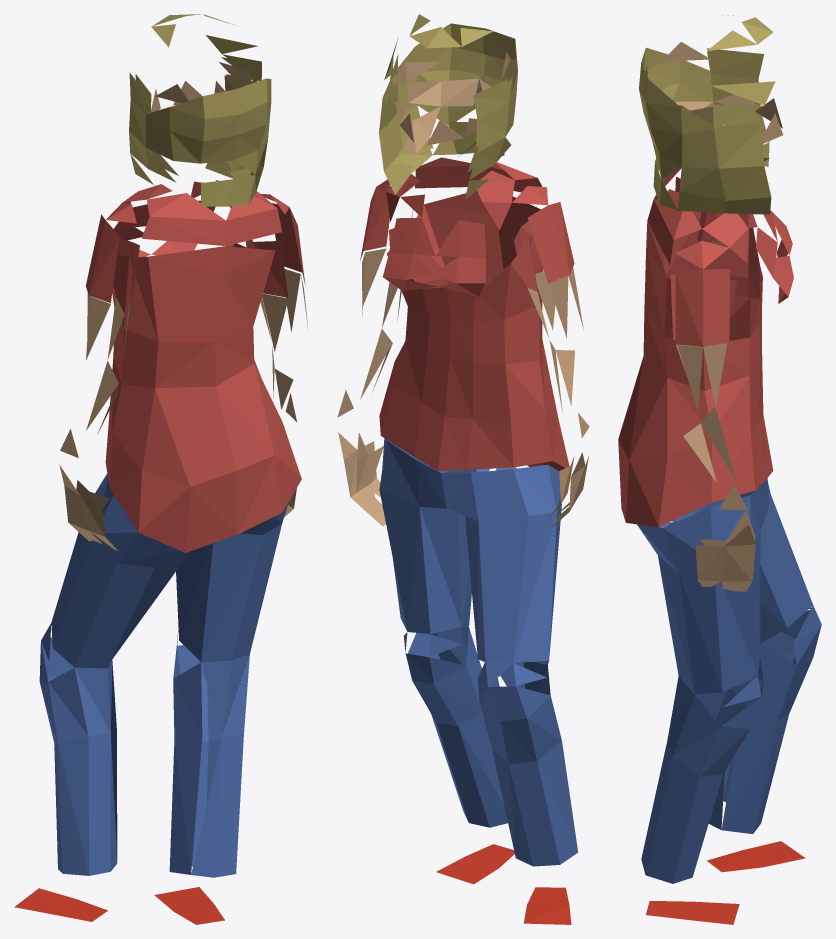
The model's file is personfar_6_idle.fbx.
3 renders of one model, left to right at view 1: azimuth 30°, elevation 25°; view 2: azimuth 150°, elevation 25°; view 3: azimuth 270°, elevation 25°, orthographic. The views are drawn at different scales.
Visible parts, largest first — view 1: Woman; view 2: Woman; view 3: Woman.
Boxes of the visible parts, bbox=[...] form: Woman: bbox=[14, 14, 308, 924]; Woman: bbox=[337, 14, 589, 924]; Woman: bbox=[618, 14, 821, 924].
Bounding box in the file's own units: 0.3061 × 0.9962 × 0.2047.
